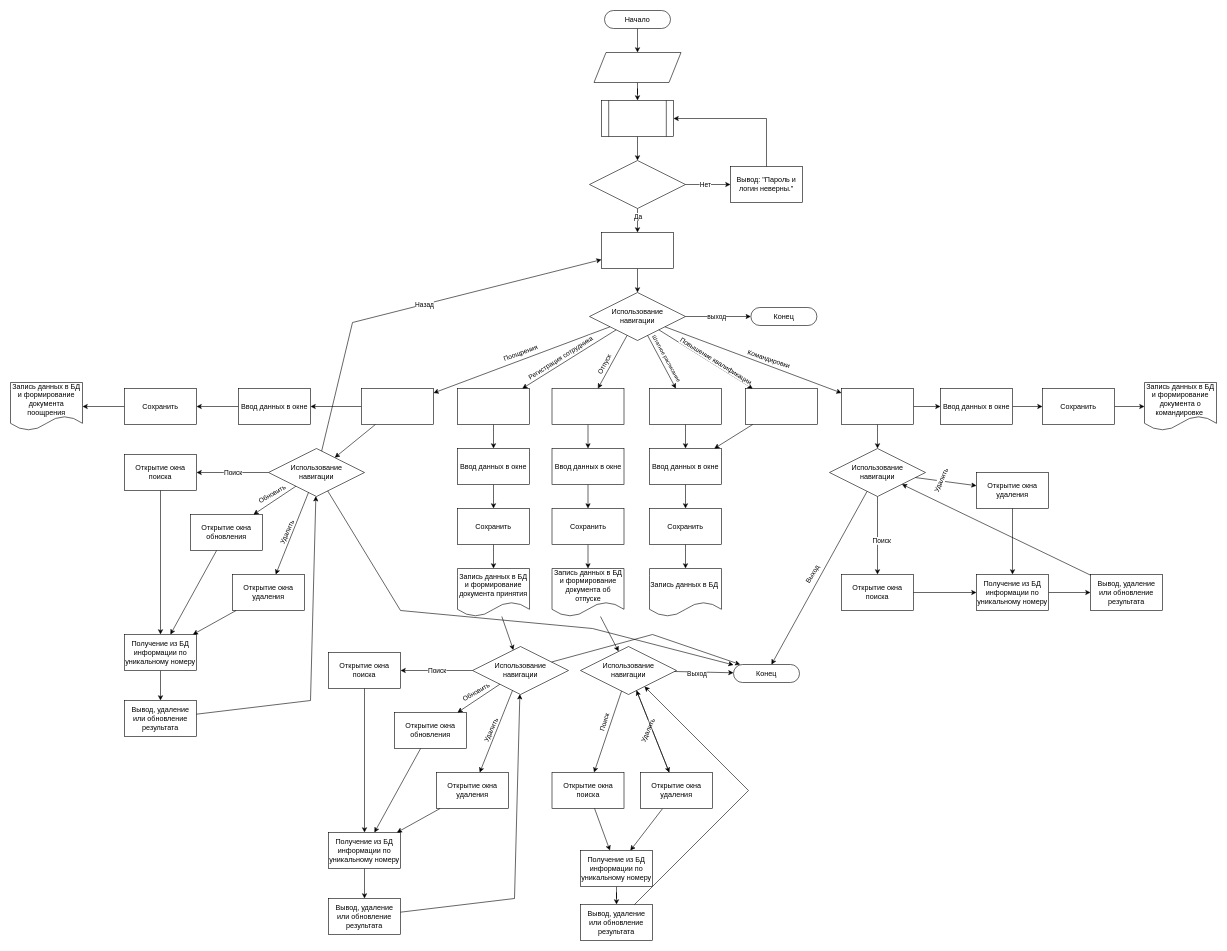
This 1227x951 diagram has some shape labels left out. Here are the shapes that lost their labels. From the top down, the centre of each, then its label:
At (637,67): "Открытие формы авторизации".
At (637,118): "Проверка логина и пароля".
At (637,184): "Пароль и логин верны?".
At (637,250): "Открытие главного меню".
At (397,406): "Открытие окна поощрений".
At (493,406): "Открытие окна регистрации сотрудника".
At (587,406): "Открытие окна отпусков".
At (685,406): "Открытие окна штатного расписания".
At (781,406): "Открытие окна повышения квалификации".
At (877,406): "Открытие окна командировок".
